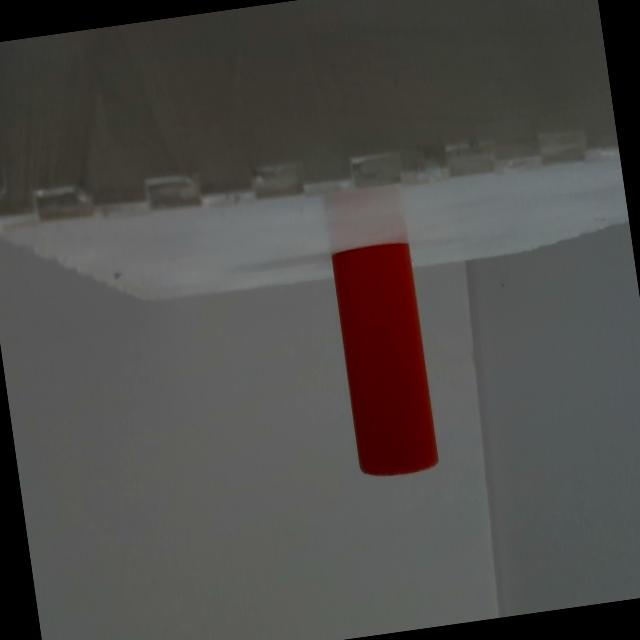red_cylinder: (328, 239, 442, 482)
